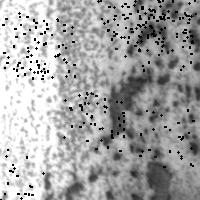pitted_surface: (1, 1, 108, 182), (105, 1, 200, 161), (15, 18, 74, 78), (63, 92, 123, 150), (134, 10, 191, 69), (107, 0, 167, 55), (99, 74, 146, 143), (139, 109, 192, 166), (0, 12, 43, 69), (97, 0, 156, 36), (137, 0, 195, 36), (0, 149, 31, 200), (0, 163, 42, 200), (142, 162, 172, 199)
